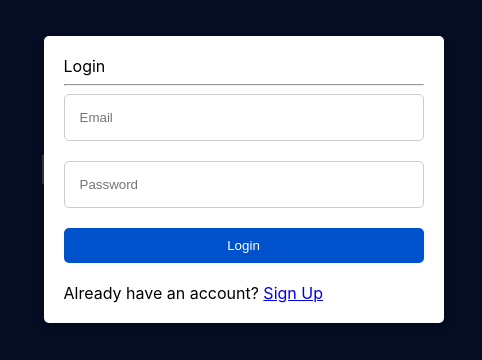
Test: Login component › should display error messages for invalid input
# Trigger form submission with empty fields
Click the button "Login": (244, 245) [64,228,424,262]
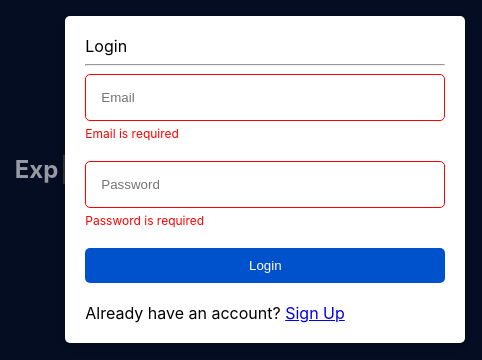
Now the text "Email is required" is shown, box [85,126,179,140]
Now the text "Password is required" is shown, box [85,212,204,228]
